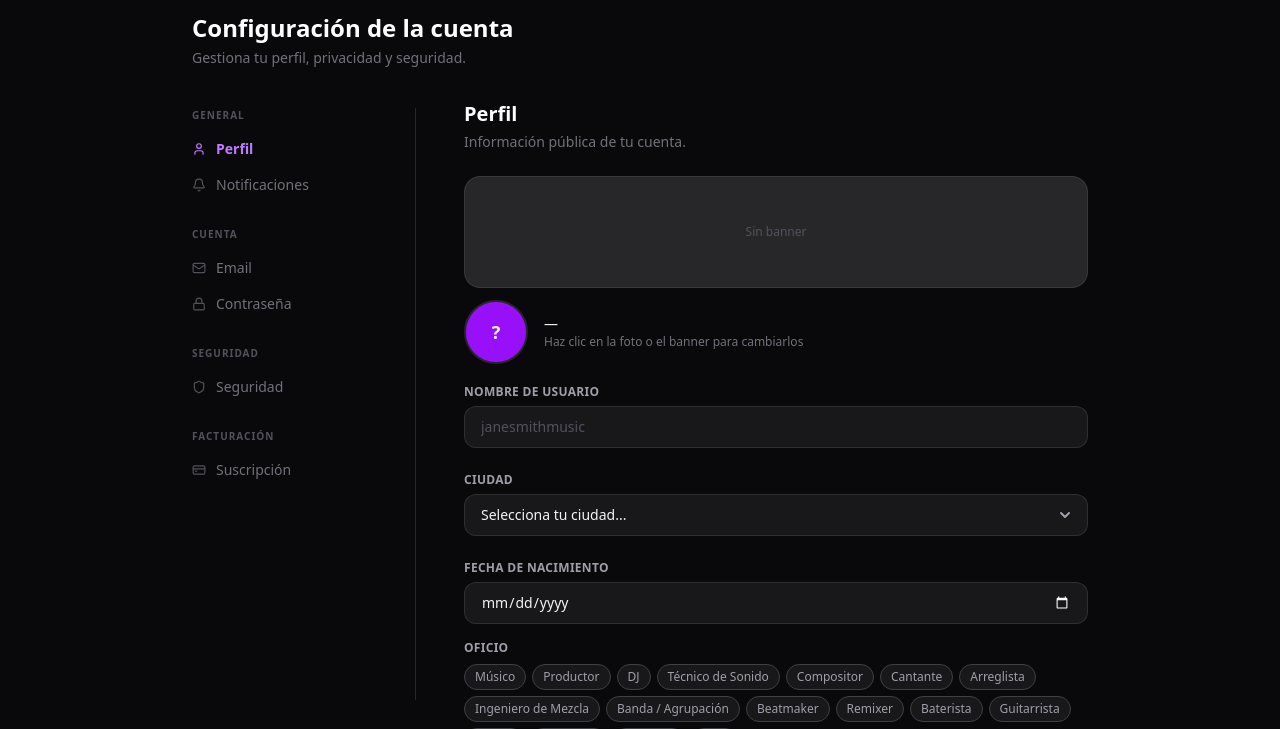
Test case: Settings › cambia al panel de Seguridad y muestra la zona de eliminar cuenta
Click the button "Seguridad". click: x=288, y=387
box: top-left (192, 369), bottom-right (383, 405)
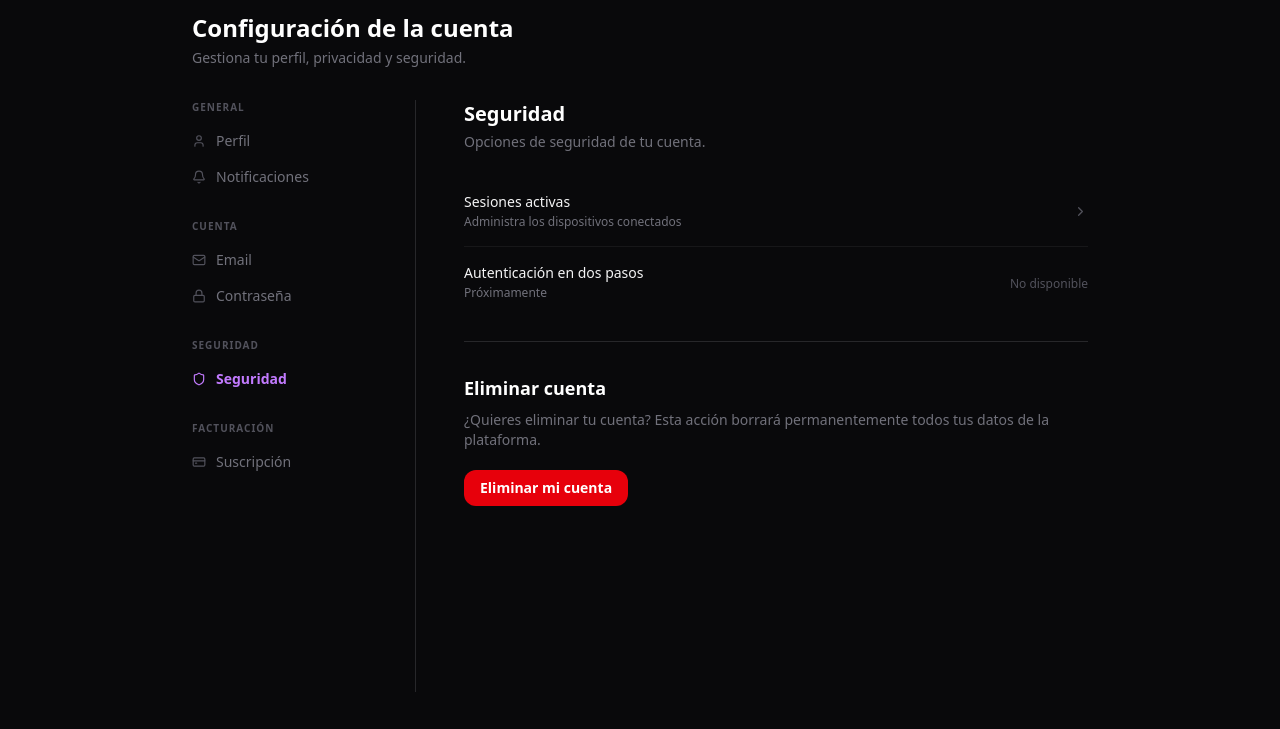
Check: the heading "Eliminar cuenta" is shown, box top-left (464, 376), bottom-right (606, 400)
Check: the button "Eliminar mi cuenta" is shown, box top-left (464, 470), bottom-right (628, 506)
